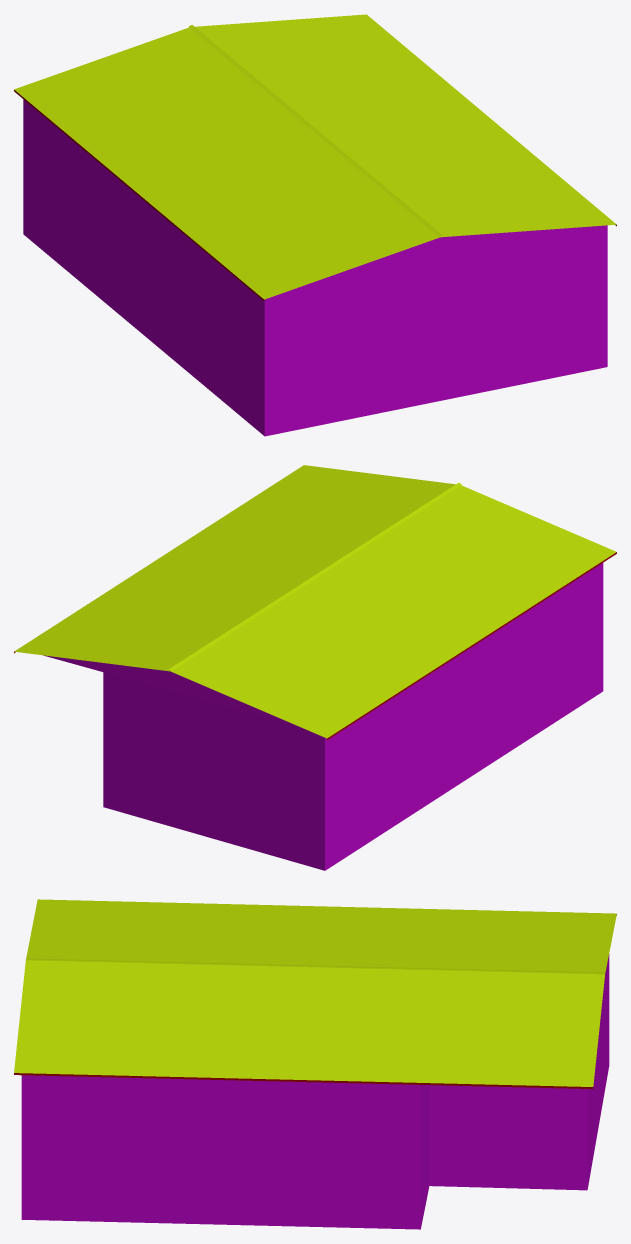
3 views of the same model, one above another, from view 1: azimuth 30°, elevation 25°; view 2: azimuth 150°, elevation 25°; view 3: azimuth 270°, elevation 25° (orthographic). The views are drawn at different scales.
Visible parts, largest first — view 1: sc_74; view 2: sc_74; view 3: sc_74.
Boxes of the visible parts, x1,y1,x2,y2 form: sc_74: [14, 14, 616, 436]; sc_74: [14, 465, 616, 870]; sc_74: [14, 899, 616, 1229].
Size of the model in its own units: 24.14 by 10.65 by 32.77.
